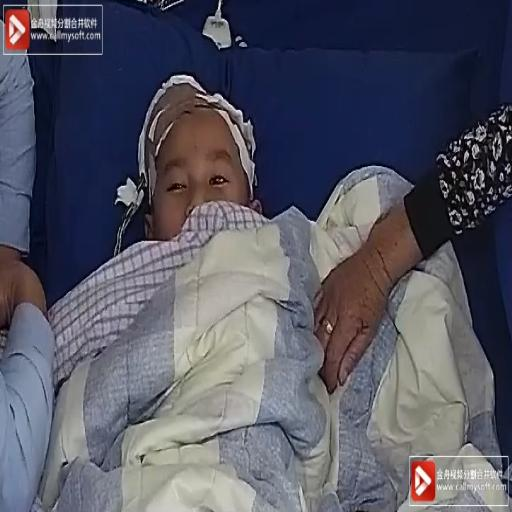Seizure: (147, 115, 262, 258)
